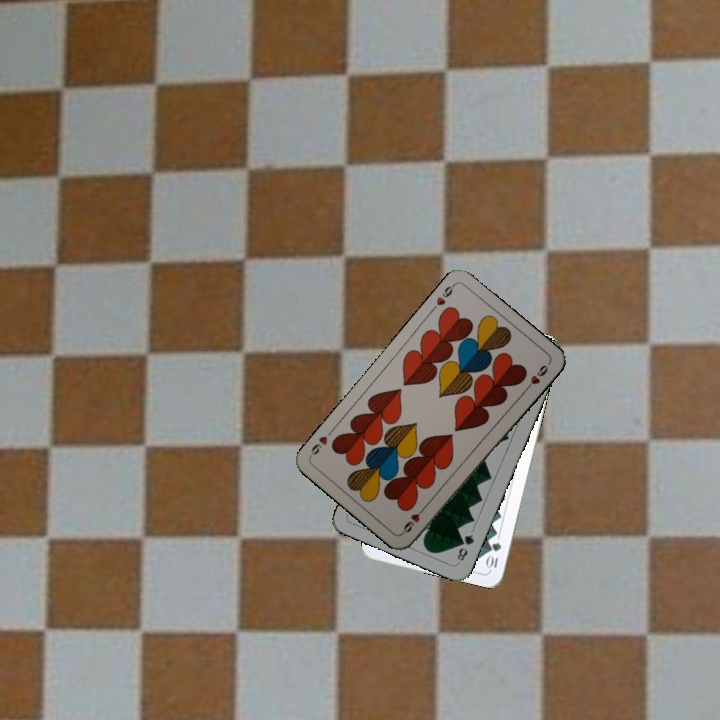G10: (483, 538, 504, 571)
G8: (453, 530, 477, 564)
H9: (398, 502, 428, 536), (432, 280, 457, 308)
